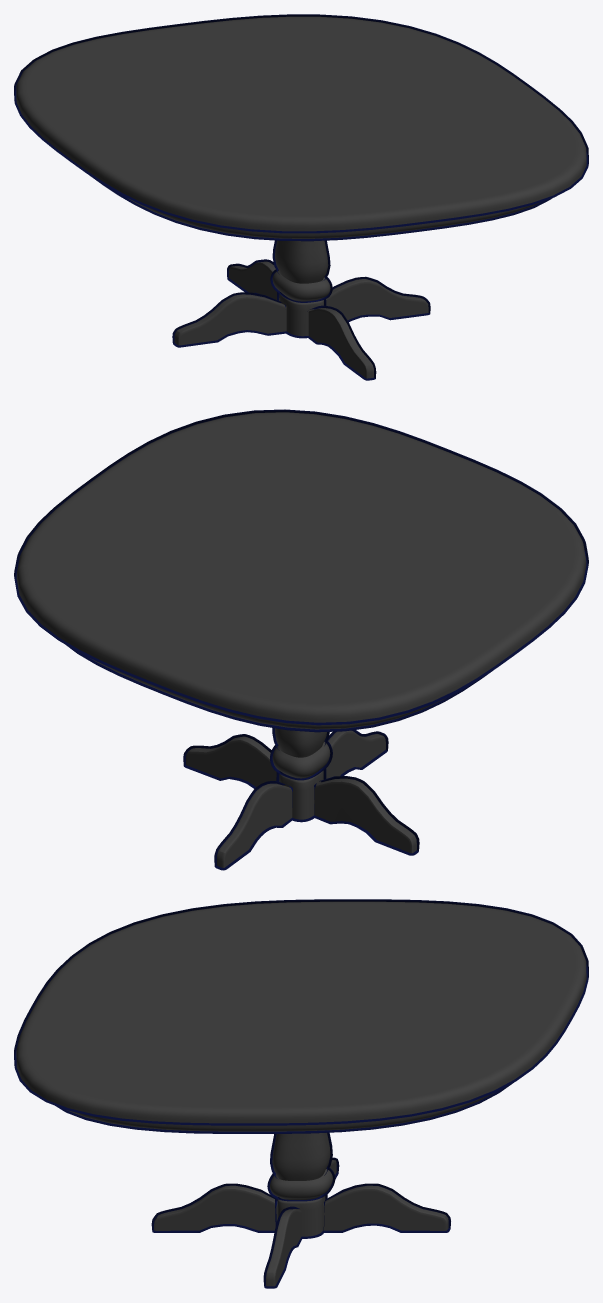
The picture shows the model from 3 angles, top to bottom: view 1: azimuth 30°, elevation 25°; view 2: azimuth 150°, elevation 25°; view 3: azimuth 270°, elevation 25°; orthographic projection. The views are drawn at different scales.
Visible parts, largest first — view 1: NoSlideTable; view 2: NoSlideTable; view 3: NoSlideTable.
Part boxes in pixels (bbox=[...]): NoSlideTable: bbox=[14, 14, 588, 380]; NoSlideTable: bbox=[14, 409, 588, 870]; NoSlideTable: bbox=[14, 899, 588, 1288].
Bounding box in the file's own units: 1.24 × 0.6164 × 1.41.
